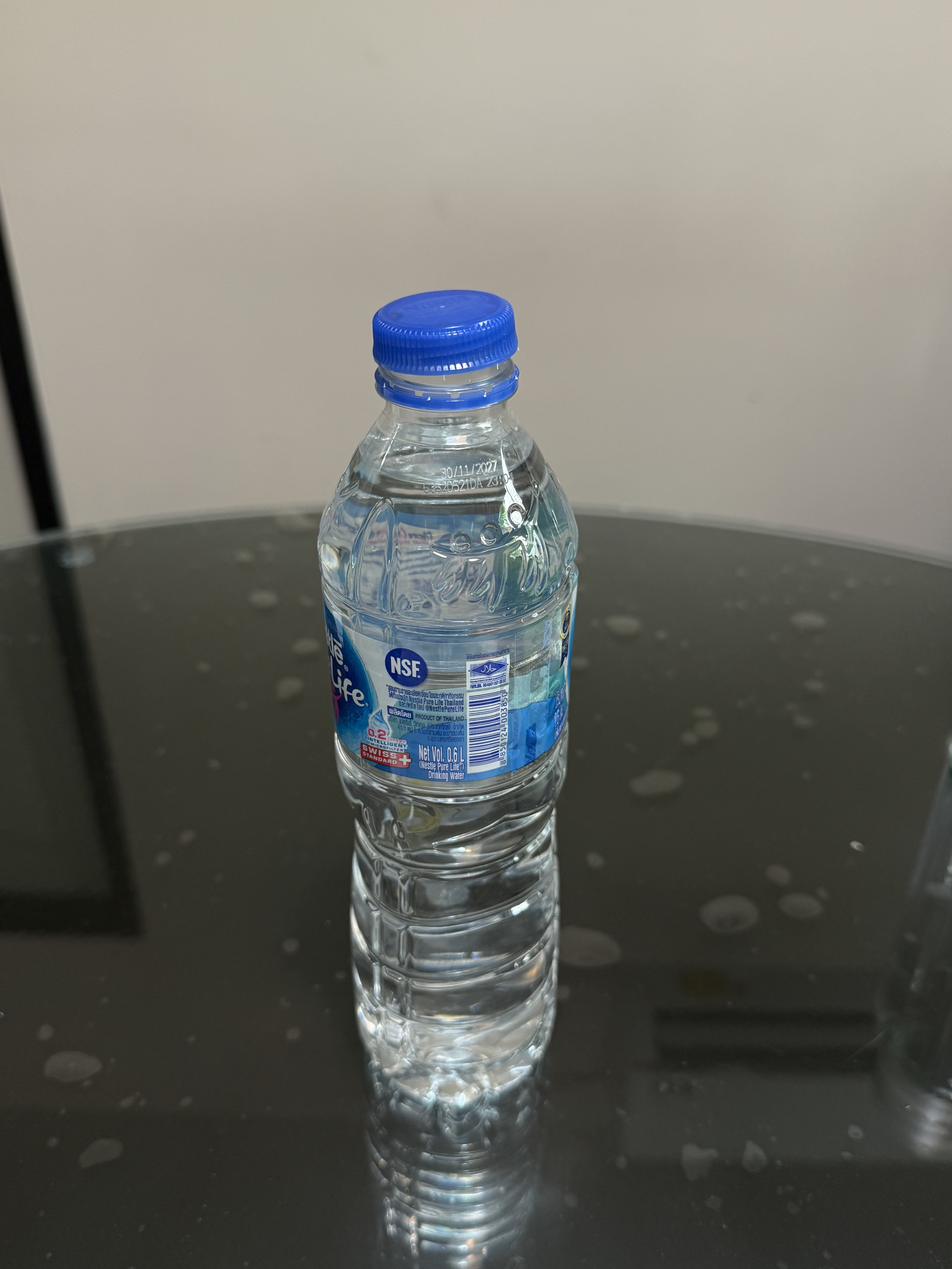half_cap: (366, 284, 523, 409)
